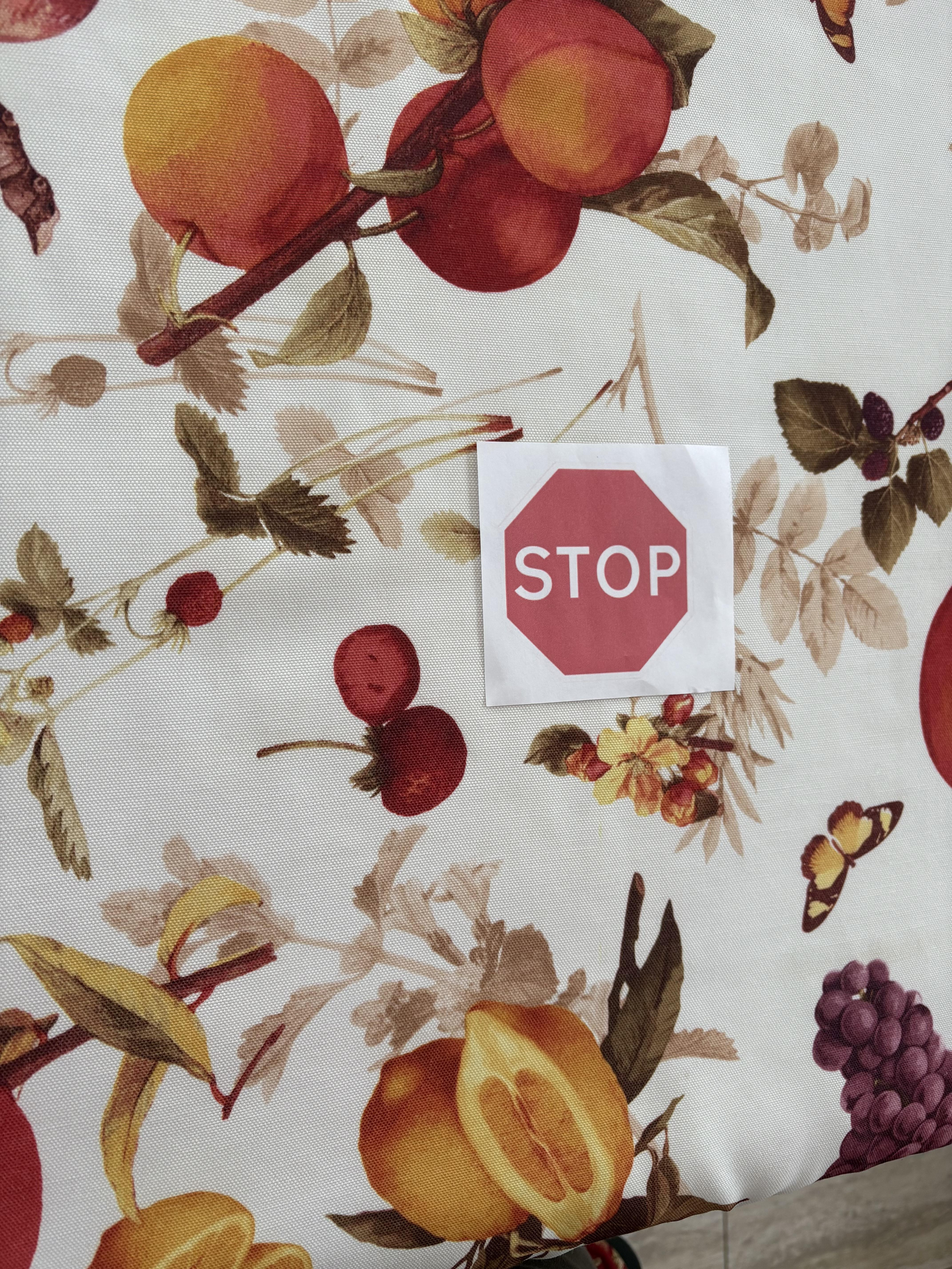Stop: (478, 444, 725, 692)
